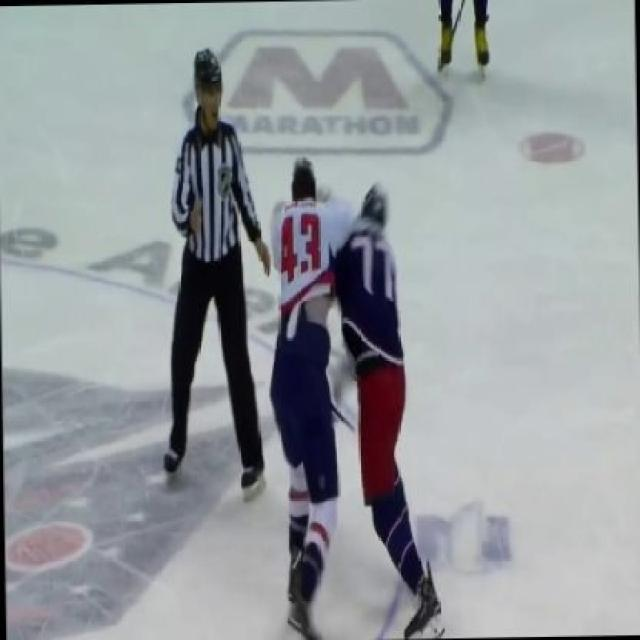fight: (234, 150, 461, 638)
non-fight: (140, 38, 291, 497), (407, 0, 512, 78)
